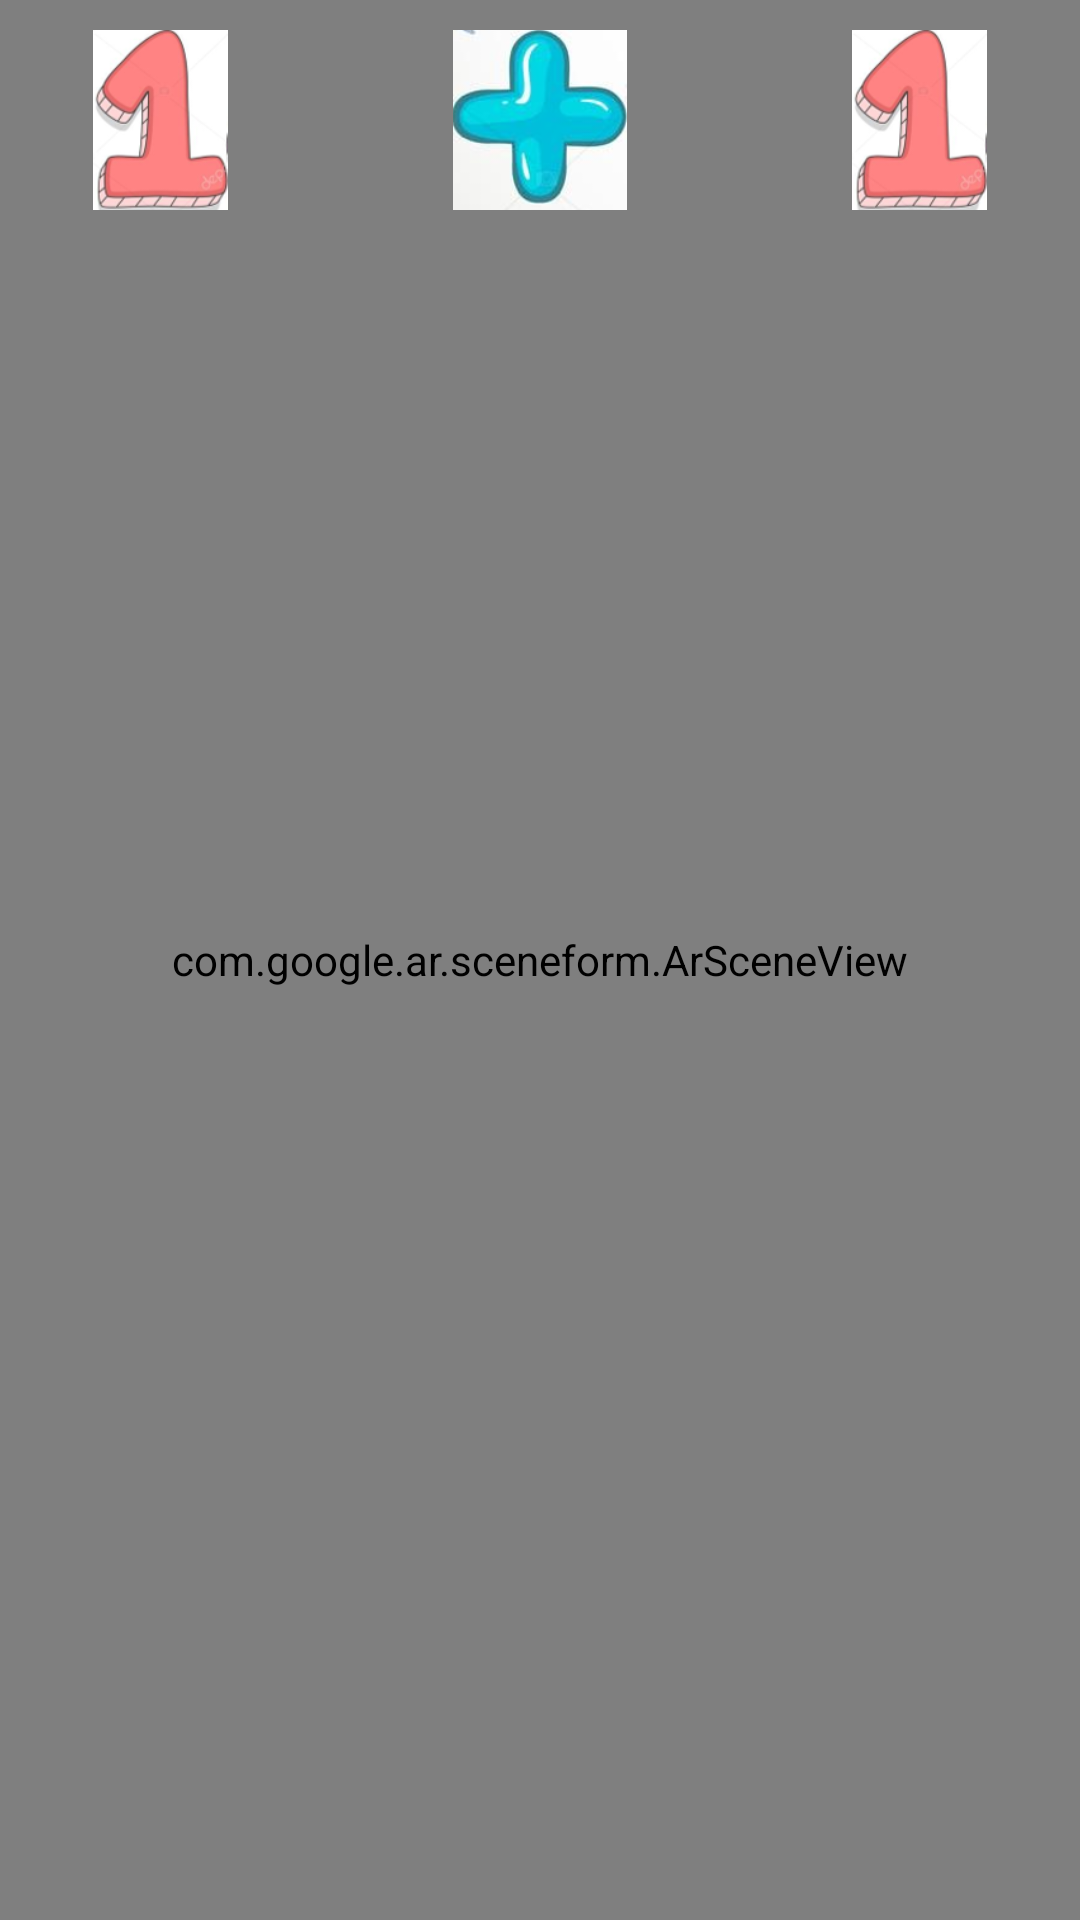

Icon bounding boxes for this 1080 x 1920 phone screenshot, format [x1,y1,x2,y2]:
numero: [93,30,228,210], [852,30,987,210]
signo mas: [453,30,627,210]
